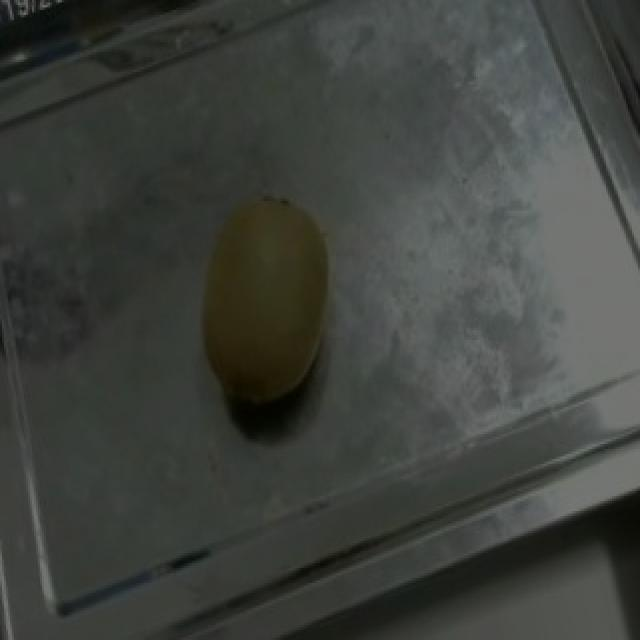Fruit: (164, 169, 374, 444)
